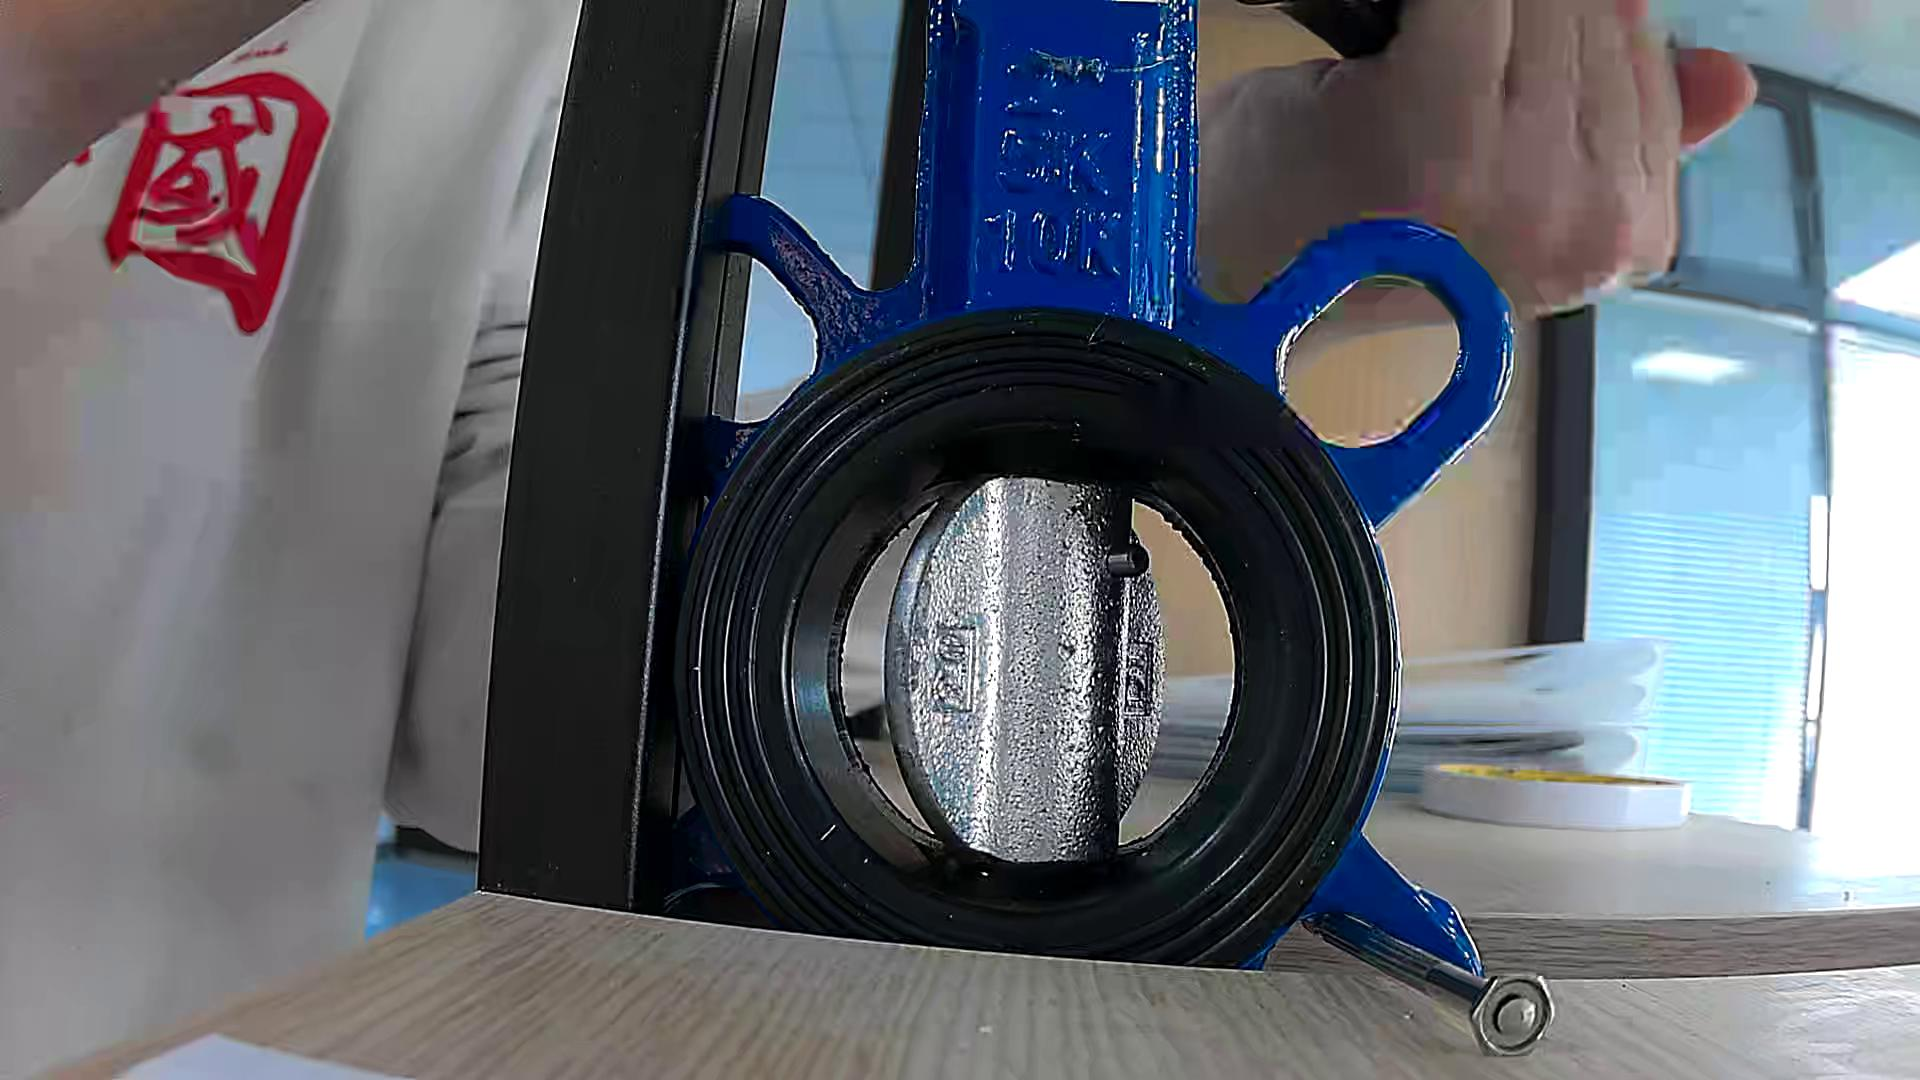valve: (885, 480, 1167, 862)
